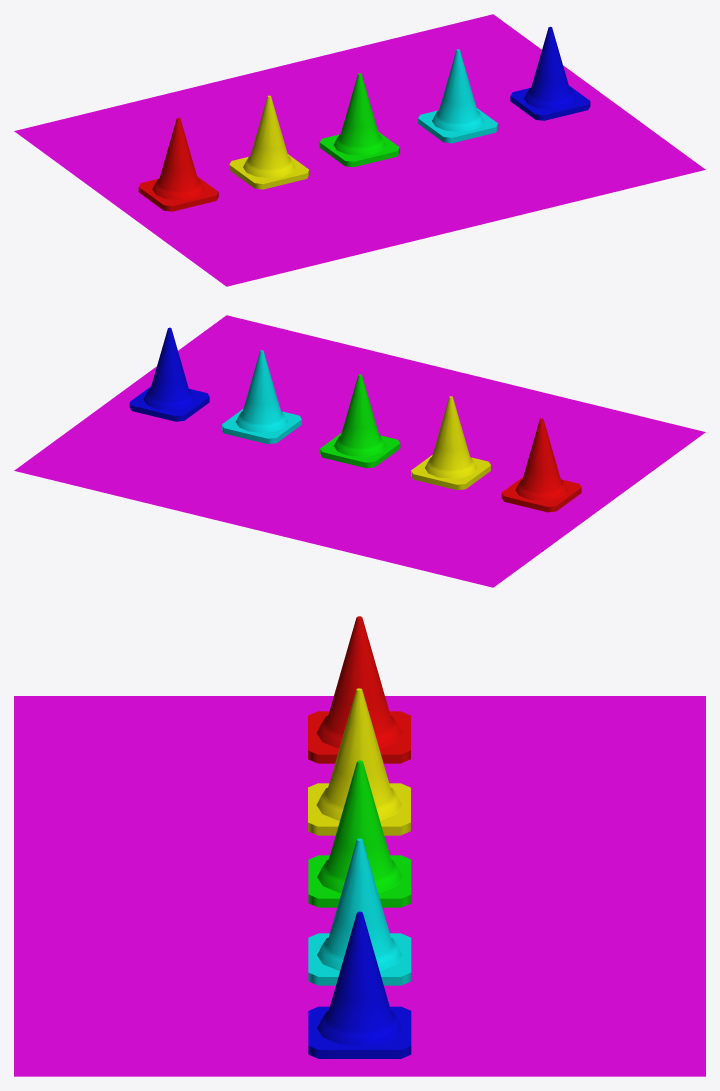
Rendered from Scene_for_SketchFab.fbx.
3 views of the same model, one above another, from view 1: azimuth 30°, elevation 25°; view 2: azimuth 150°, elevation 25°; view 3: azimuth 270°, elevation 25° (orthographic). The views are drawn at different scales.
Parts seen in each view (by area): view 1: pPlane1, Conus_LP1, Conus_LP, Conus_LP3, Conus_LP4, Conus_LP2; view 2: pPlane1, Conus_LP4, Conus_LP2, Conus_LP, Conus_LP1, Conus_LP3; view 3: pPlane1, Conus_LP4, Conus_LP2, Conus_LP3, Conus_LP1, Conus_LP.
Boxes of the visible parts, left/top/right/bottom form: pPlane1: left=14, top=14, right=705, bottom=286; Conus_LP1: left=229, top=95, right=309, bottom=189; Conus_LP: left=138, top=117, right=218, bottom=211; Conus_LP3: left=418, top=49, right=498, bottom=143; Conus_LP4: left=510, top=26, right=590, bottom=120; Conus_LP2: left=319, top=73, right=399, bottom=167; pPlane1: left=14, top=315, right=705, bottom=587; Conus_LP4: left=129, top=327, right=209, bottom=421; Conus_LP2: left=320, top=374, right=400, bottom=468; Conus_LP: left=501, top=418, right=581, bottom=512; Conus_LP1: left=411, top=396, right=490, bottom=490; Conus_LP3: left=222, top=350, right=301, bottom=444; pPlane1: left=14, top=696, right=705, bottom=1076; Conus_LP4: left=308, top=911, right=411, bottom=1058; Conus_LP2: left=308, top=760, right=411, bottom=907; Conus_LP3: left=308, top=838, right=411, bottom=985; Conus_LP1: left=308, top=688, right=410, bottom=835; Conus_LP: left=308, top=616, right=410, bottom=763.
Bounding box in the file's own units: 26.37 × 4.02 × 20.26.
